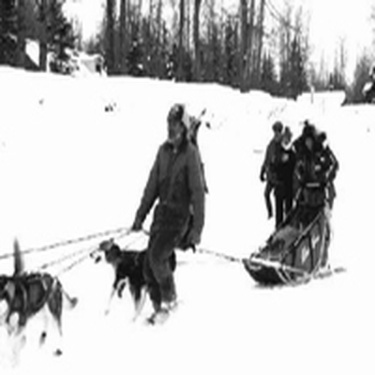dog: (82, 237, 180, 329), (1, 276, 80, 353), (1, 224, 31, 334)
